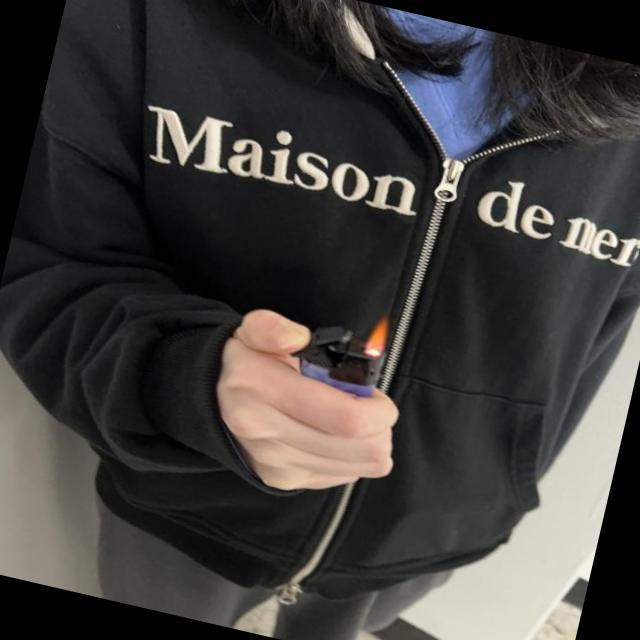Fire: (361, 308, 393, 358)
